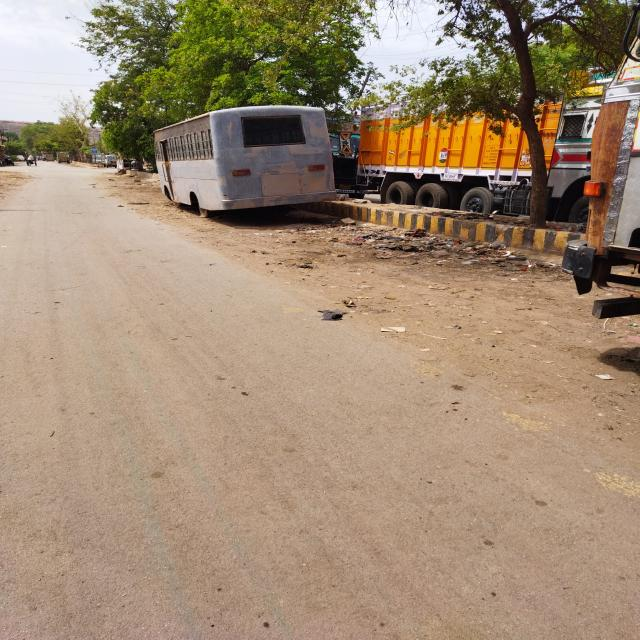Bus: (161, 111, 346, 218)
